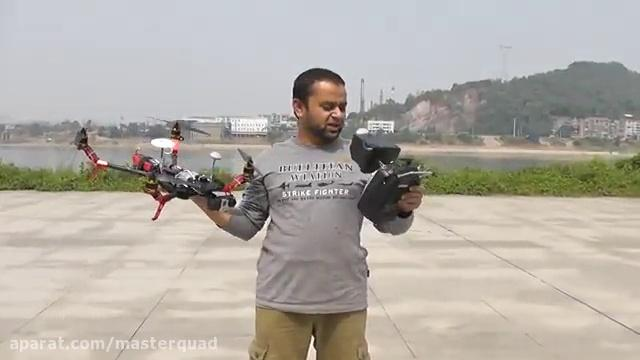drone: (69, 114, 268, 222)
